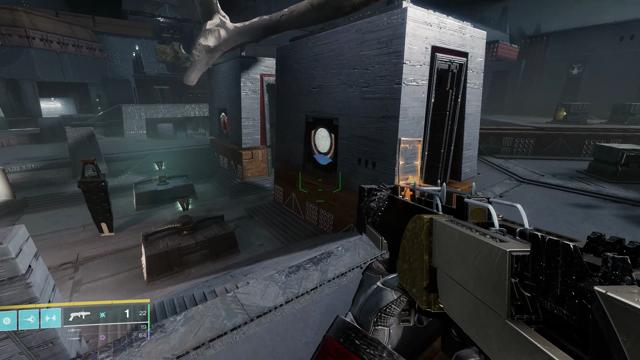pyramid: (220, 112, 228, 134)
traveler: (311, 125, 335, 165)
